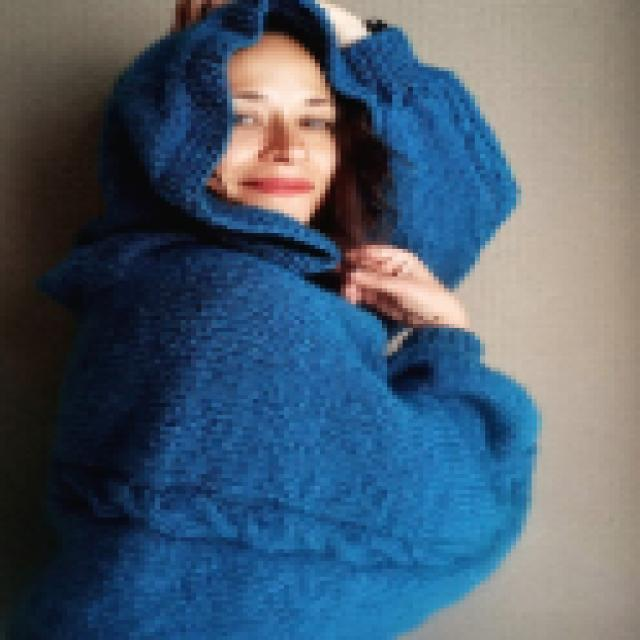4_capucha: (98, 0, 425, 251)
